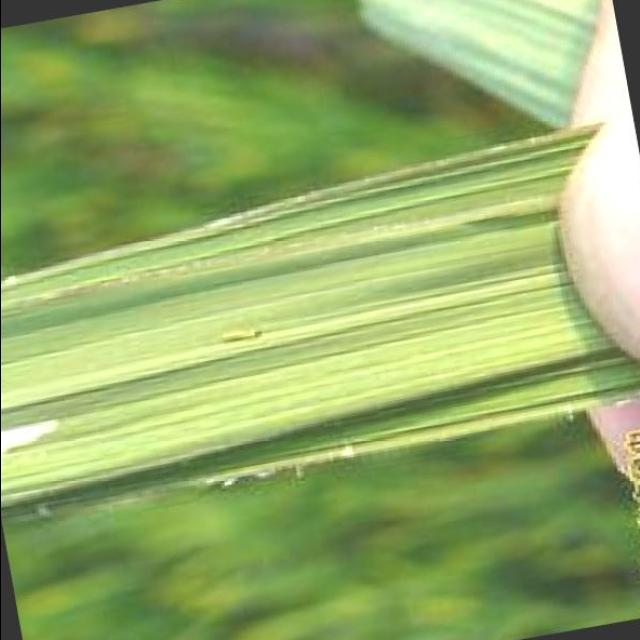leaf folder: (221, 328, 259, 342)
